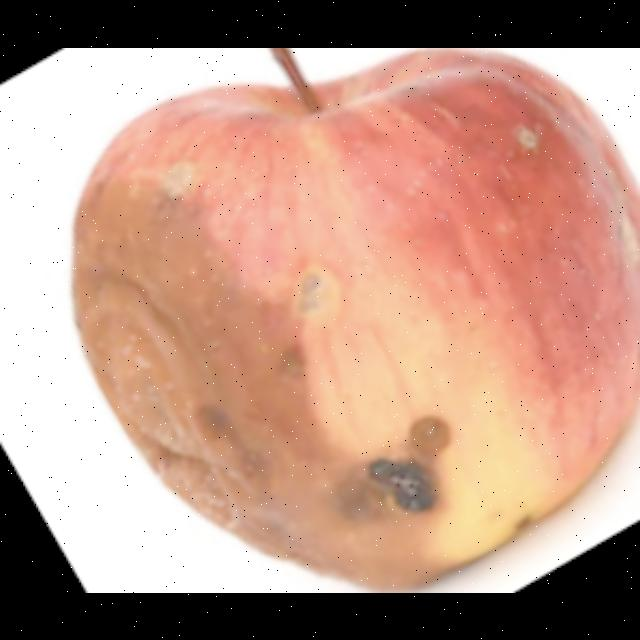Apel Tidak Segar: (32, 48, 640, 592)
